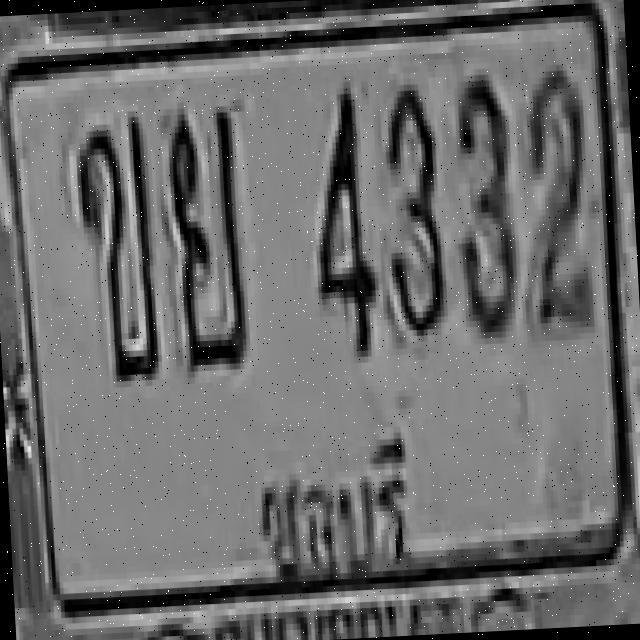11KhorKhai: (71, 116, 159, 384)
2: (520, 64, 594, 330)
3: (449, 70, 520, 337), (377, 78, 447, 338)
4: (308, 84, 379, 356)
43YorYak: (164, 104, 250, 376)
Chonburi: (245, 428, 422, 594)
